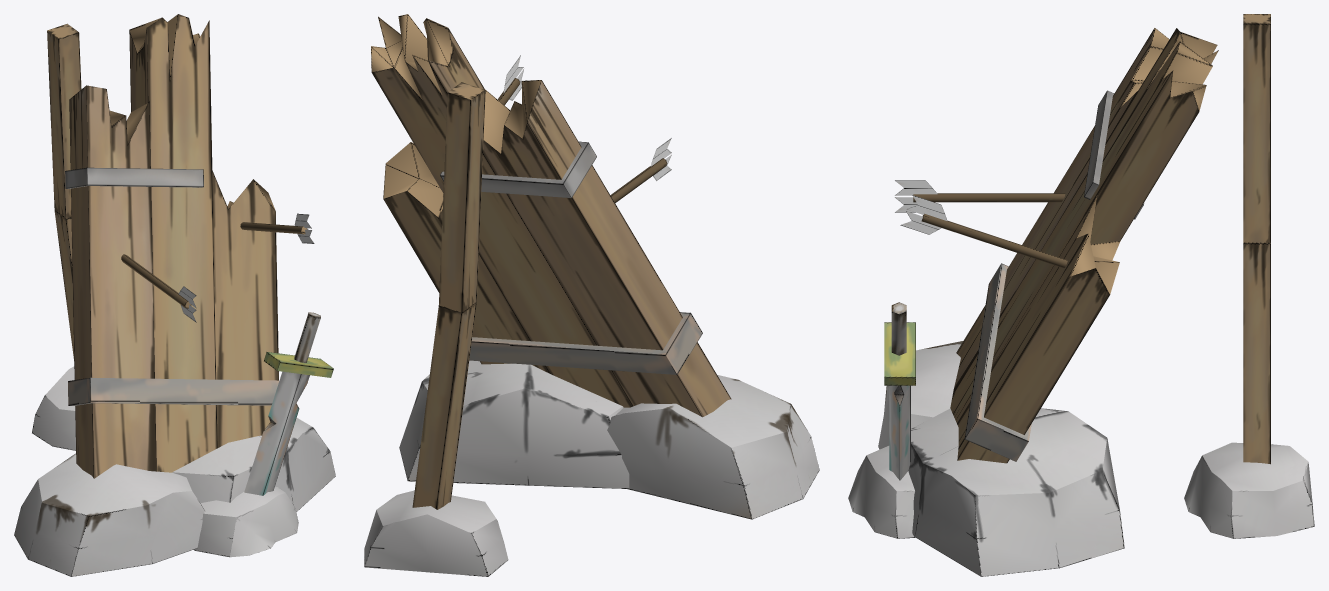
Rendered from 전투신오브젝트1.fbx.
3 views of the same model, side by side, from view 1: azimuth 30°, elevation 25°; view 2: azimuth 150°, elevation 25°; view 3: azimuth 270°, elevation 25° (orthographic). The views are drawn at different scales.
Visible parts, largest first — view 1: battel_obj1; view 2: battel_obj1; view 3: battel_obj1.
Boxes of the visible parts, <box> form: battel_obj1: <box>14,14,335,576</box>; battel_obj1: <box>364,14,819,576</box>; battel_obj1: <box>848,14,1314,576</box>.
Size of the model in its own units: 84.13 by 107 by 91.24.
1 material, 1 textured.
